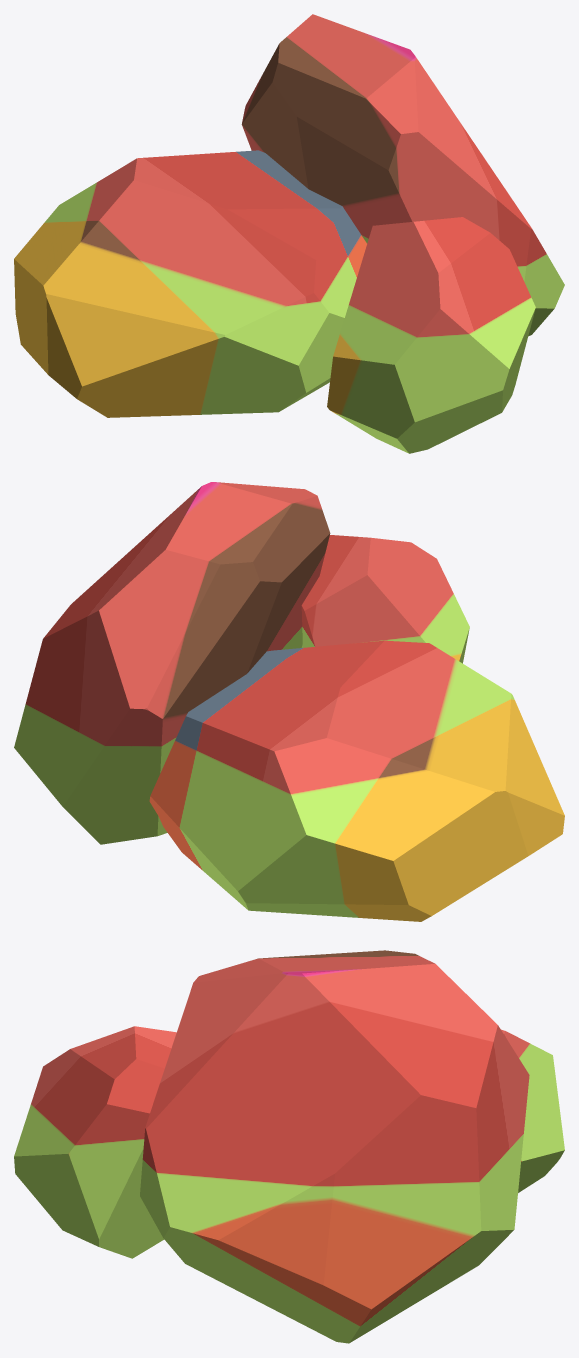
Rendered from rock_8.fbx.
The picture shows the model from 3 angles, top to bottom: view 1: azimuth 30°, elevation 25°; view 2: azimuth 150°, elevation 25°; view 3: azimuth 270°, elevation 25°; orthographic projection. The views are drawn at different scales.
Visible parts, largest first — view 1: rock_8; view 2: rock_8; view 3: rock_8.
Part boxes in pixels (x1,y1,x2,y2): rock_8: (14,14,564,453); rock_8: (14,482,564,921); rock_8: (14,950,564,1343).
Size of the model in its own units: 181 by 126 by 188.
